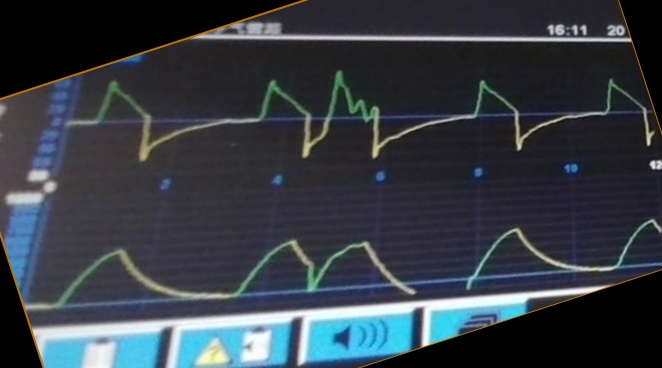Double_Triggering Flow: (90, 70, 641, 161)
Double_Triggering Volume: (66, 219, 651, 297)
